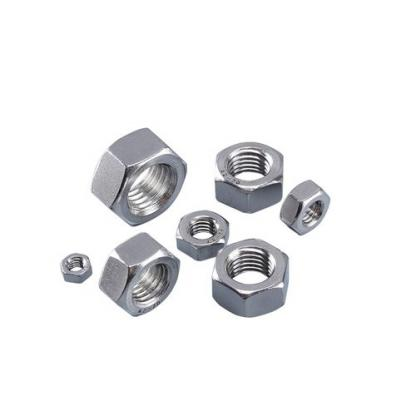FOD: (90, 126, 188, 228), (95, 230, 182, 320), (209, 236, 293, 320), (212, 141, 284, 213), (173, 207, 231, 264), (279, 178, 332, 236), (57, 249, 94, 285)
